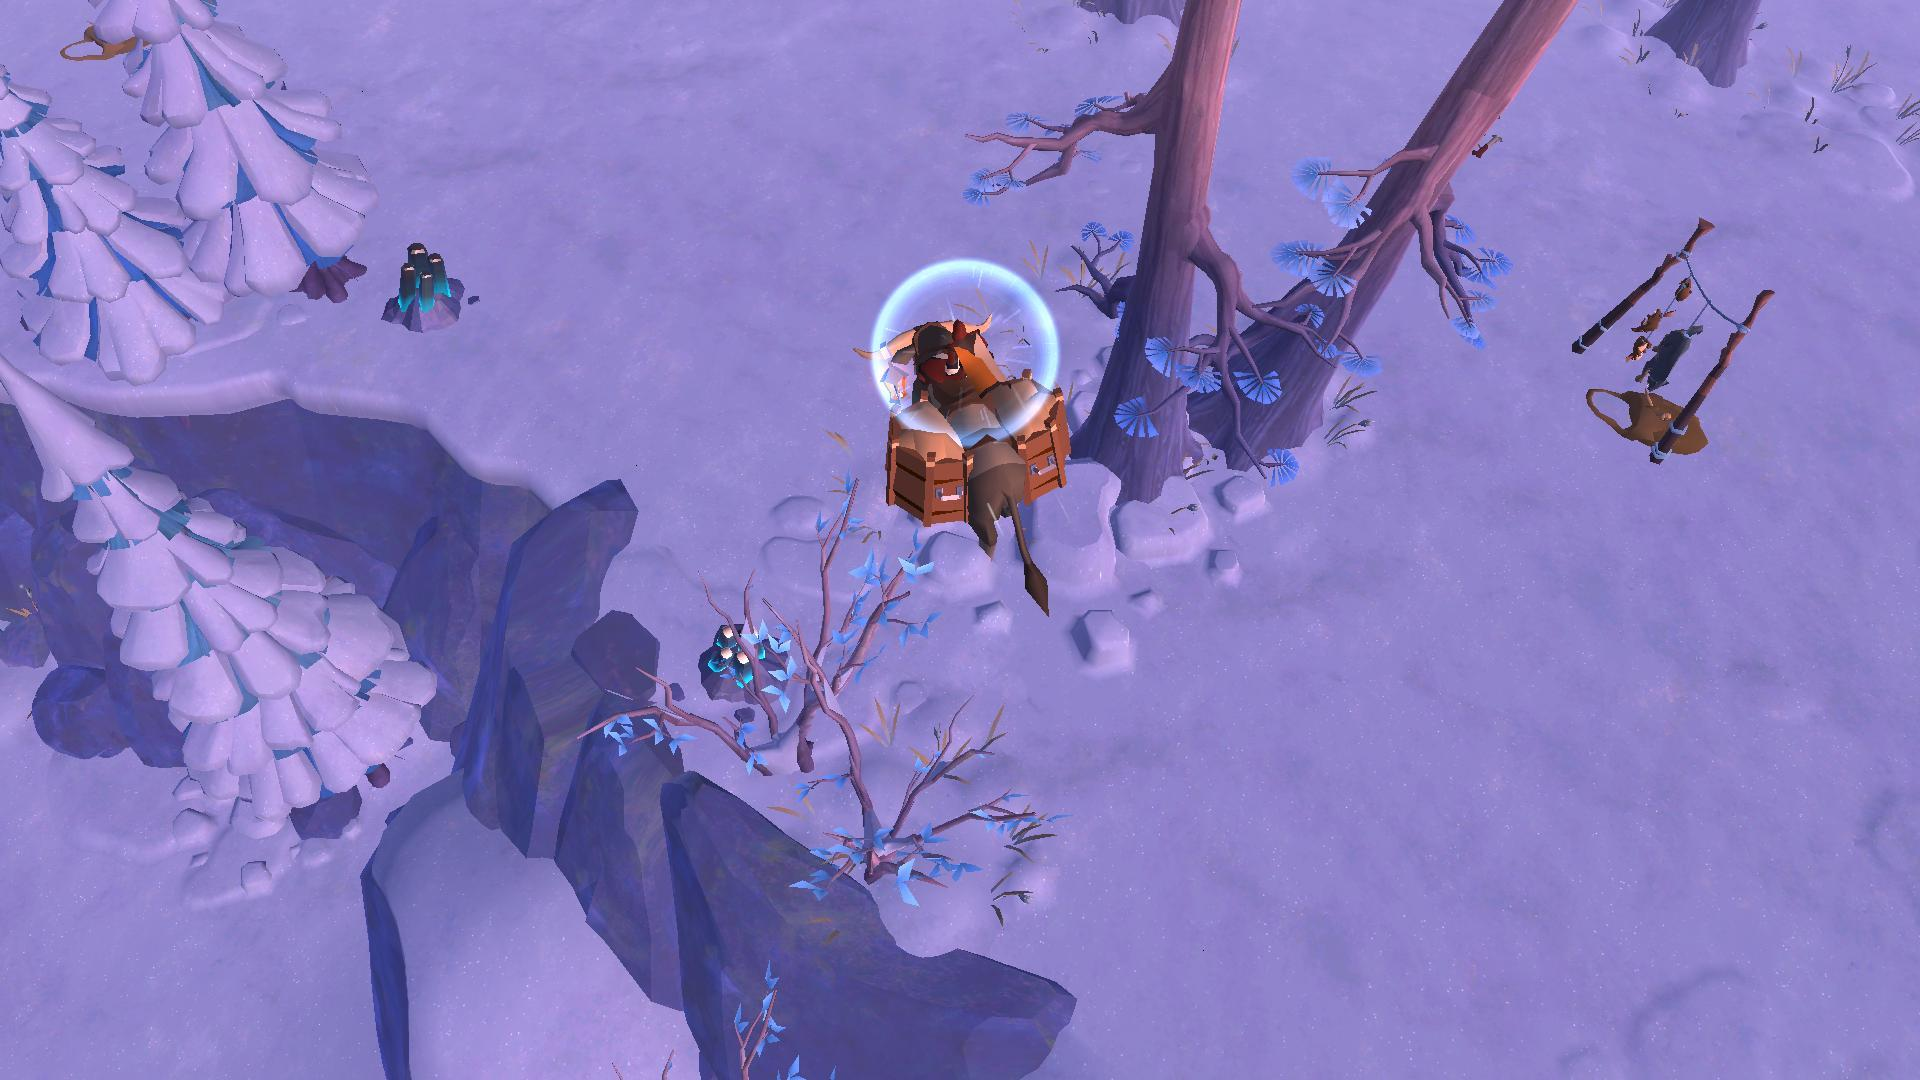ore_t4: (707, 613, 789, 698), (389, 236, 452, 322)
